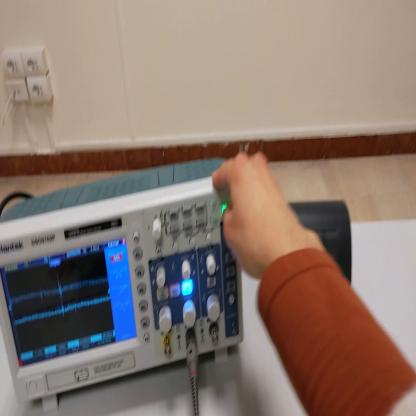hand: (211, 149, 299, 282)
oscilloscope: (2, 159, 245, 410)
